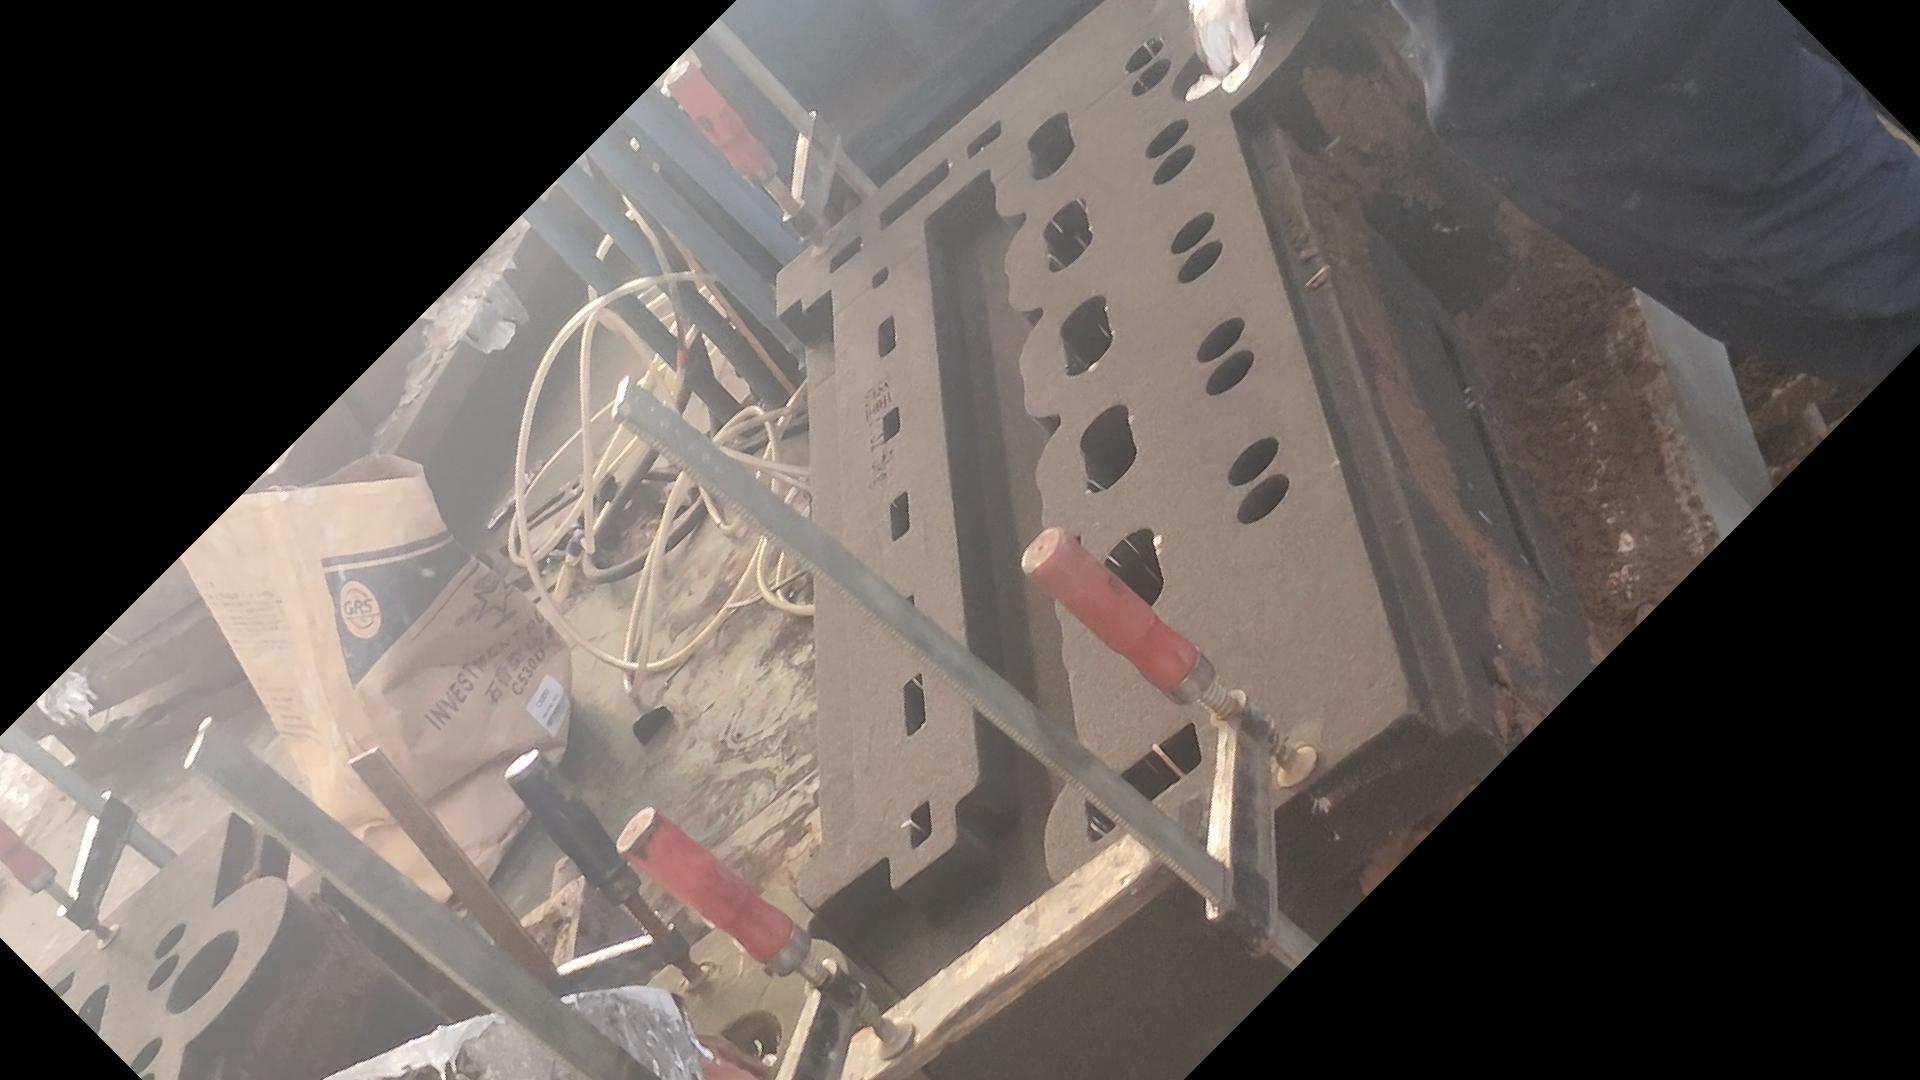pouring hole: (1172, 15, 1266, 102), (164, 930, 243, 1014), (696, 1009, 782, 1080)
